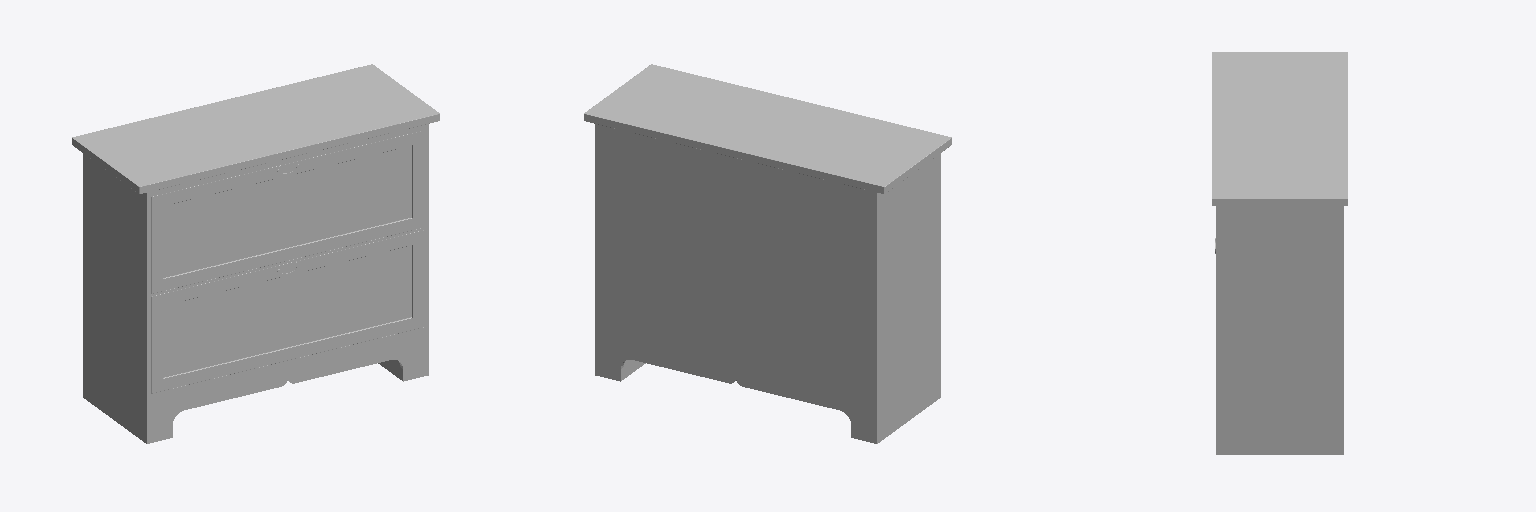
File: IKEA-ASPELUND_Commode_2_tiroirs-3D.obj
3 renders of one model, left to right at view 1: azimuth 30°, elevation 25°; view 2: azimuth 150°, elevation 25°; view 3: azimuth 270°, elevation 25°, orthographic.
Visible parts, largest first — view 1: Box005, Box006, Box007, Box004, Box001, Circle001, Circle002, Box002; view 2: Box004, Box007, Circle004, Circle003, Box001; view 3: Box004, Box007, Box002.
Boxes of the visible parts, <box> form: Box005: <box>151,230,423,393</box>; Box006: <box>151,131,423,293</box>; Box007: <box>72,64,439,193</box>; Box004: <box>83,124,428,394</box>; Box001: <box>83,349,172,443</box>; Circle001: <box>144,361,287,442</box>; Circle002: <box>287,328,425,383</box>; Box002: <box>378,326,428,381</box>; Box004: <box>595,124,940,394</box>; Box007: <box>584,64,951,193</box>; Circle004: <box>736,361,879,443</box>; Circle003: <box>595,326,736,383</box>; Box001: <box>851,351,937,442</box>; Box004: <box>1216,206,1343,405</box>; Box007: <box>1212,52,1347,205</box>; Box002: <box>1216,406,1343,454</box>.
Bounding box in the file's own units: 1280 × 1060 × 500.